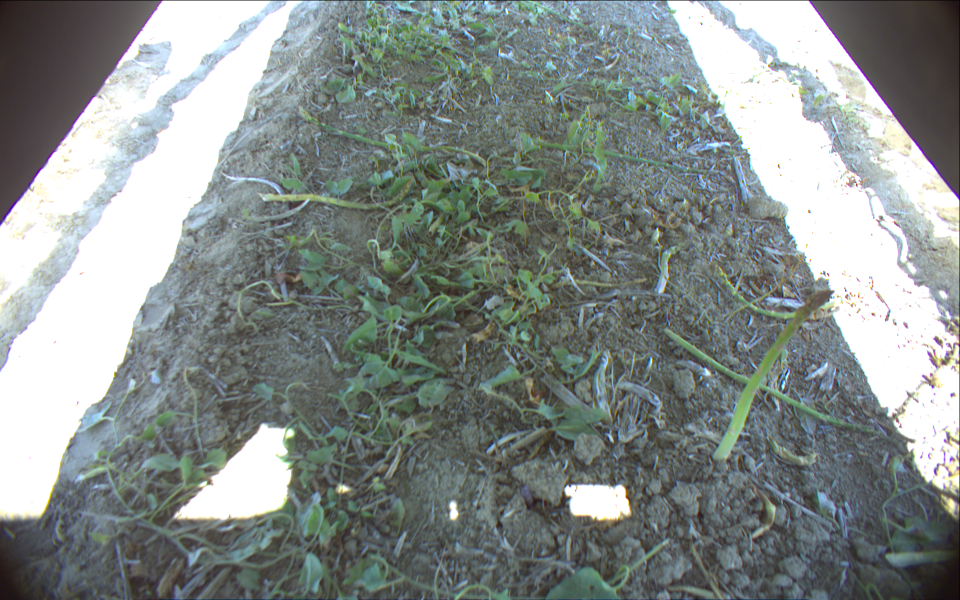aspa: (708, 287, 835, 462)
